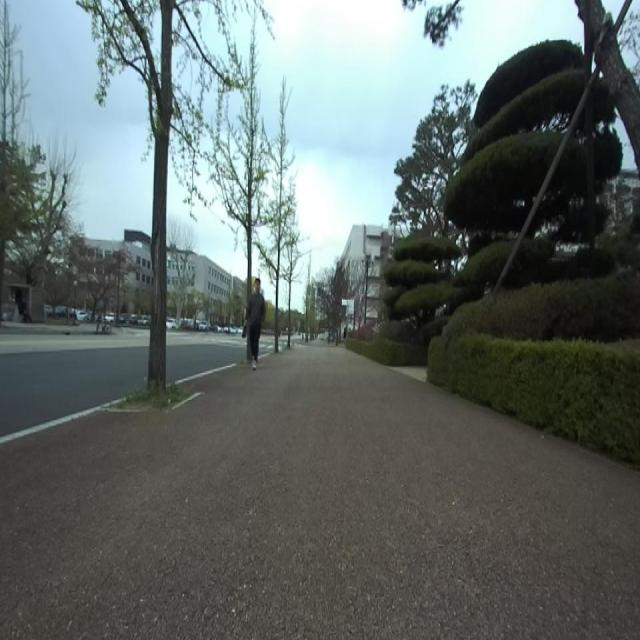sidewalk: (0, 341, 640, 638)
